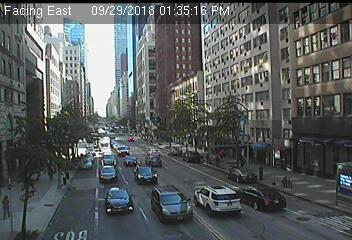car: (151, 186, 192, 223), (194, 185, 241, 217), (235, 184, 287, 211), (103, 186, 134, 213), (225, 167, 257, 184), (133, 165, 158, 186), (98, 166, 117, 182), (183, 152, 204, 164), (145, 156, 163, 169), (101, 153, 117, 167), (123, 155, 139, 167), (147, 148, 161, 160), (116, 146, 130, 157), (167, 148, 182, 157), (79, 158, 91, 169), (84, 154, 94, 162)
